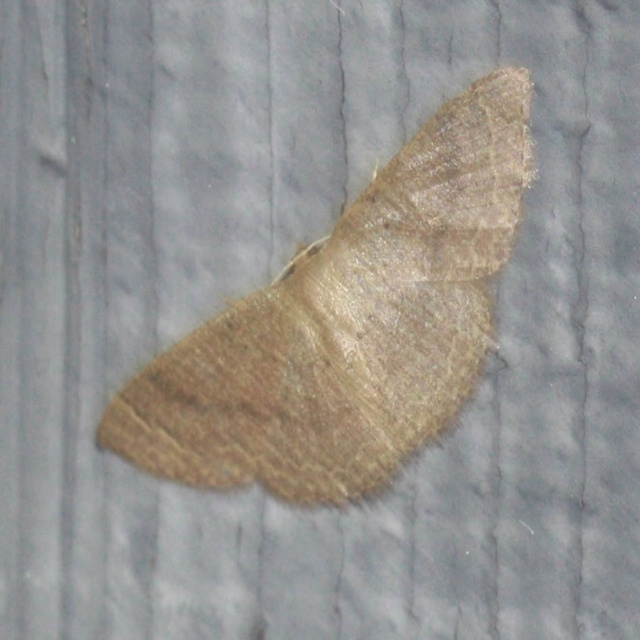Moths and butterflies: (90, 63, 541, 514)
